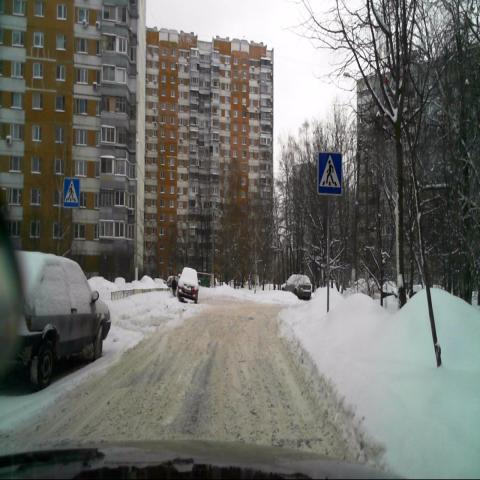5_19_1: (317, 152, 343, 196), (63, 178, 80, 208)
